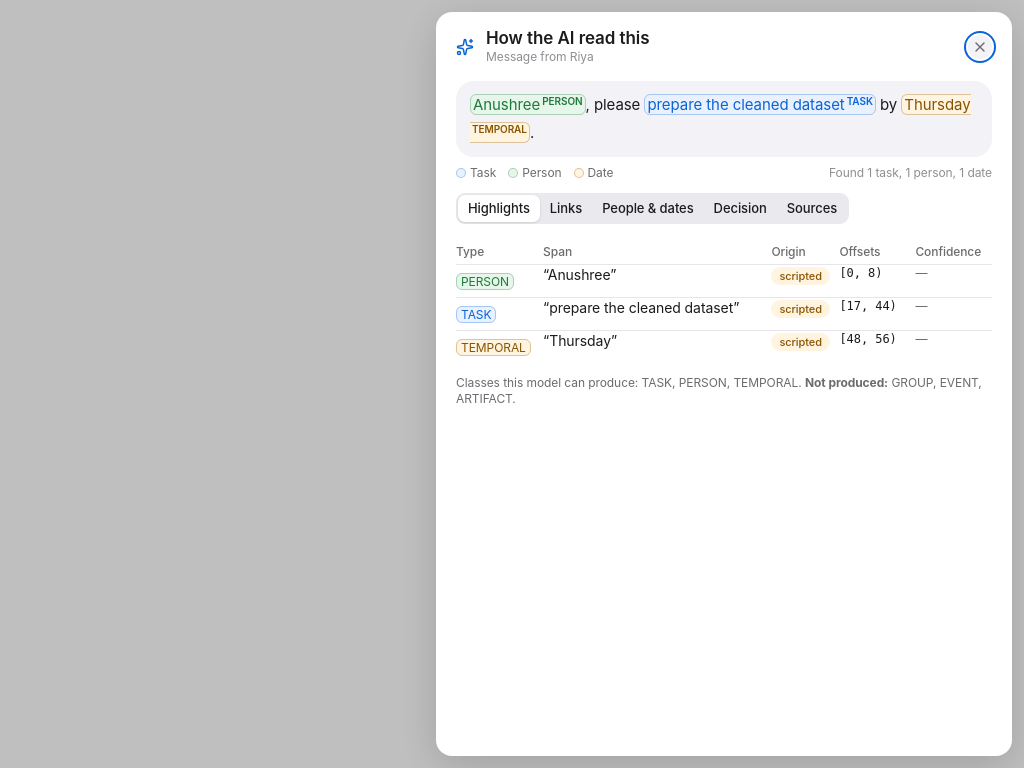
Test case: InspectorDrawer › resolution shows raw → normalised and never a guessed value
Click the tab "People & dates": (648, 209) [592,195,704,222]
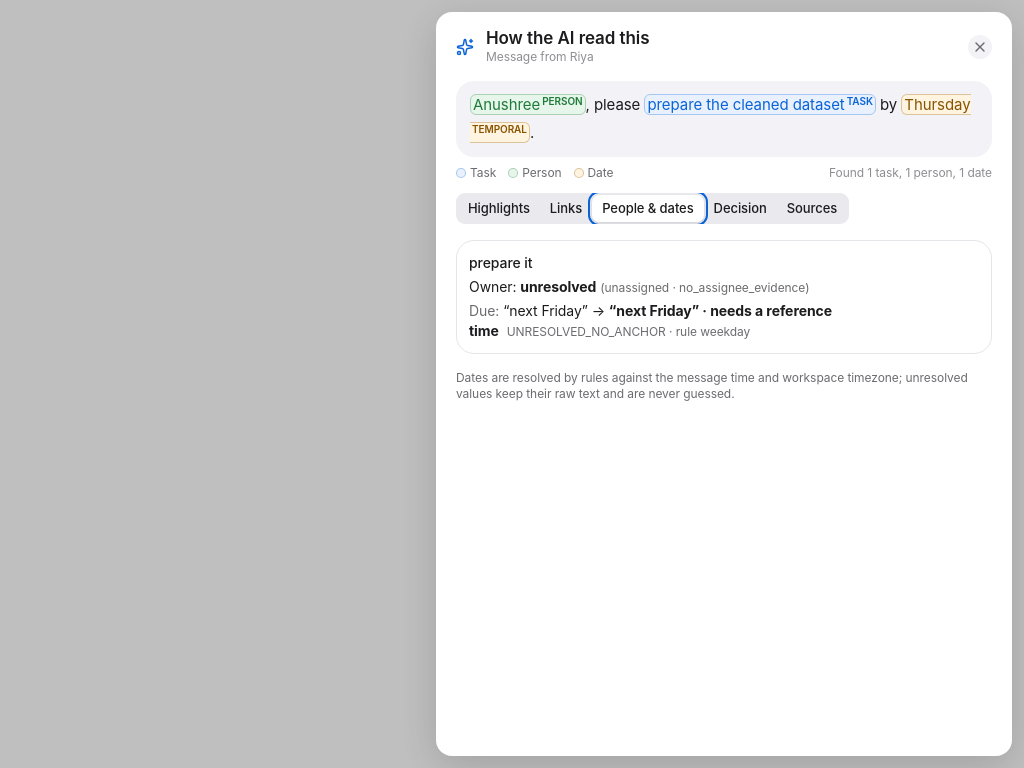
Now the panel shows "needs a reference time", box [469,302,832,339]
Now the panel shows "Owner: unresolved", box [456,240,992,402]
